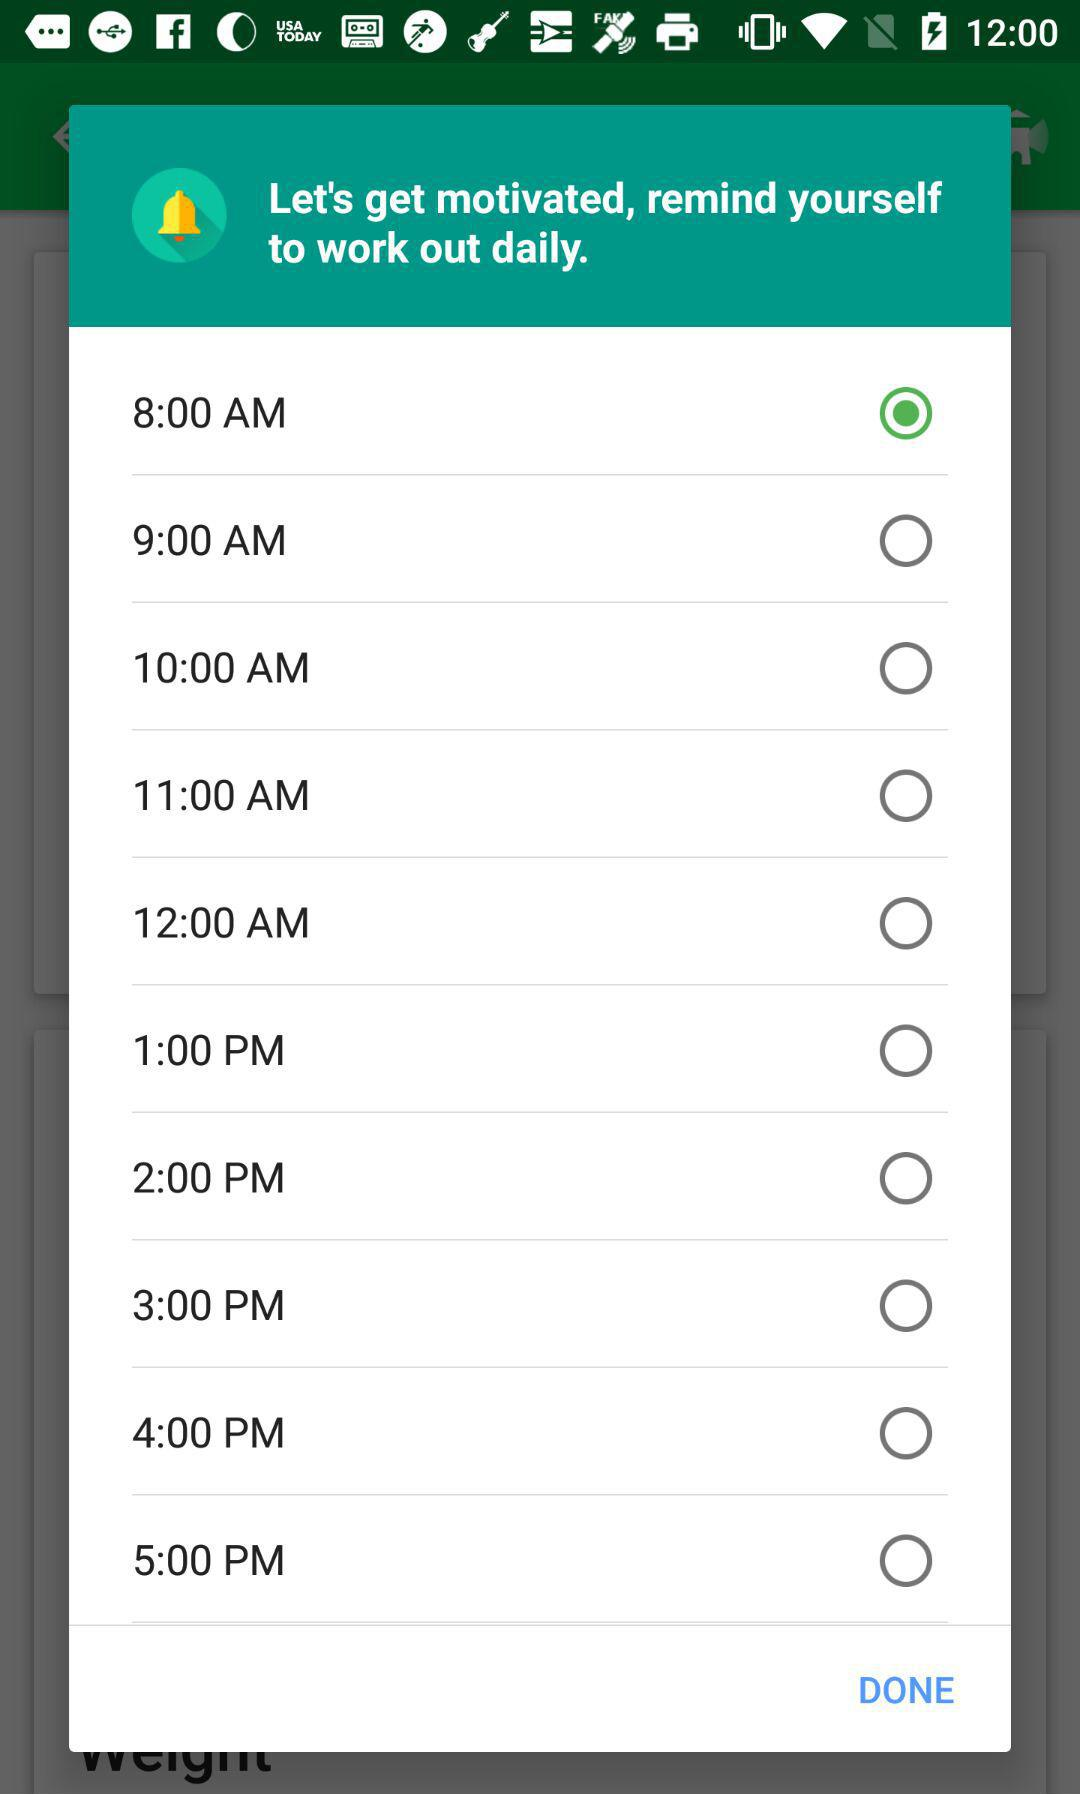CheckedTextView: (135, 386, 934, 442), (133, 1278, 933, 1334), (133, 1151, 934, 1206), (133, 514, 933, 569), (133, 1406, 933, 1461), (135, 641, 933, 696), (135, 769, 933, 824), (135, 896, 933, 951), (135, 1023, 933, 1078), (135, 1533, 933, 1588)
Icon: (132, 168, 228, 265)
Modal: (69, 105, 1012, 1753)
Text: (266, 179, 944, 273), (135, 778, 310, 812), (135, 651, 309, 686), (135, 906, 309, 941), (135, 396, 286, 431), (133, 1161, 284, 1196), (133, 1288, 284, 1322), (133, 524, 286, 557), (133, 1416, 284, 1449), (135, 1034, 284, 1067), (135, 1544, 284, 1577), (858, 1676, 954, 1706)
UpperTaskBar: (1, 1, 1080, 64)
